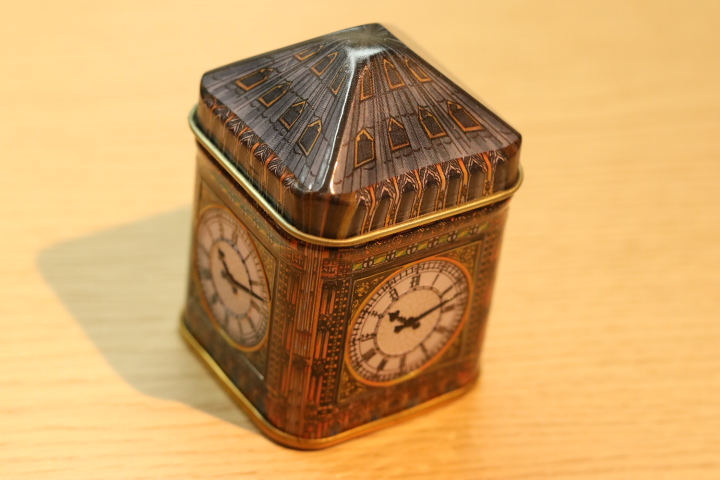Big Ben: (161, 9, 540, 463)
